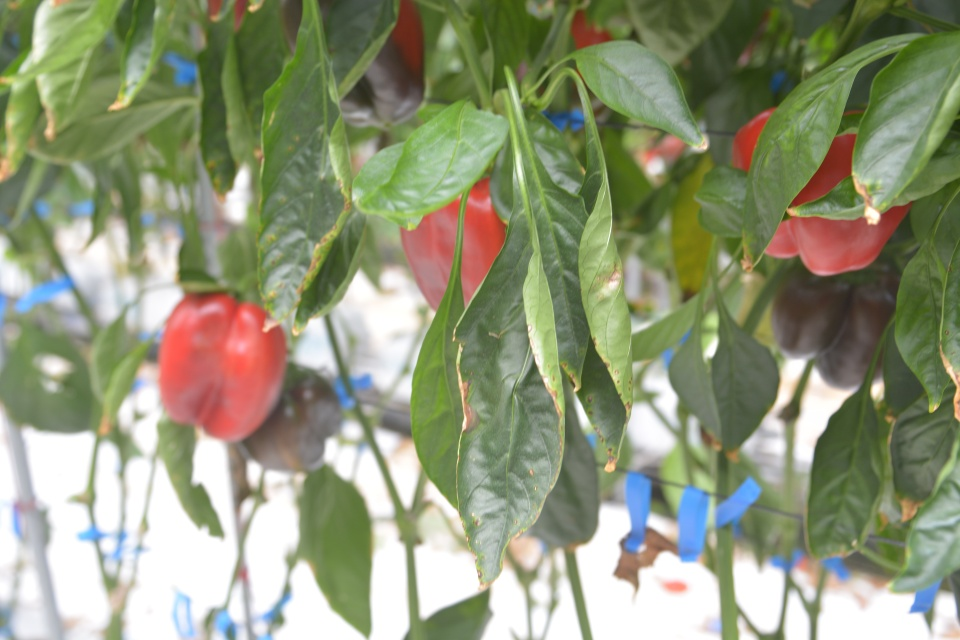fruit: (729, 102, 914, 278), (158, 284, 288, 443), (280, 0, 428, 128), (769, 253, 903, 394), (398, 171, 508, 316), (242, 361, 344, 471), (0, 324, 94, 438)
